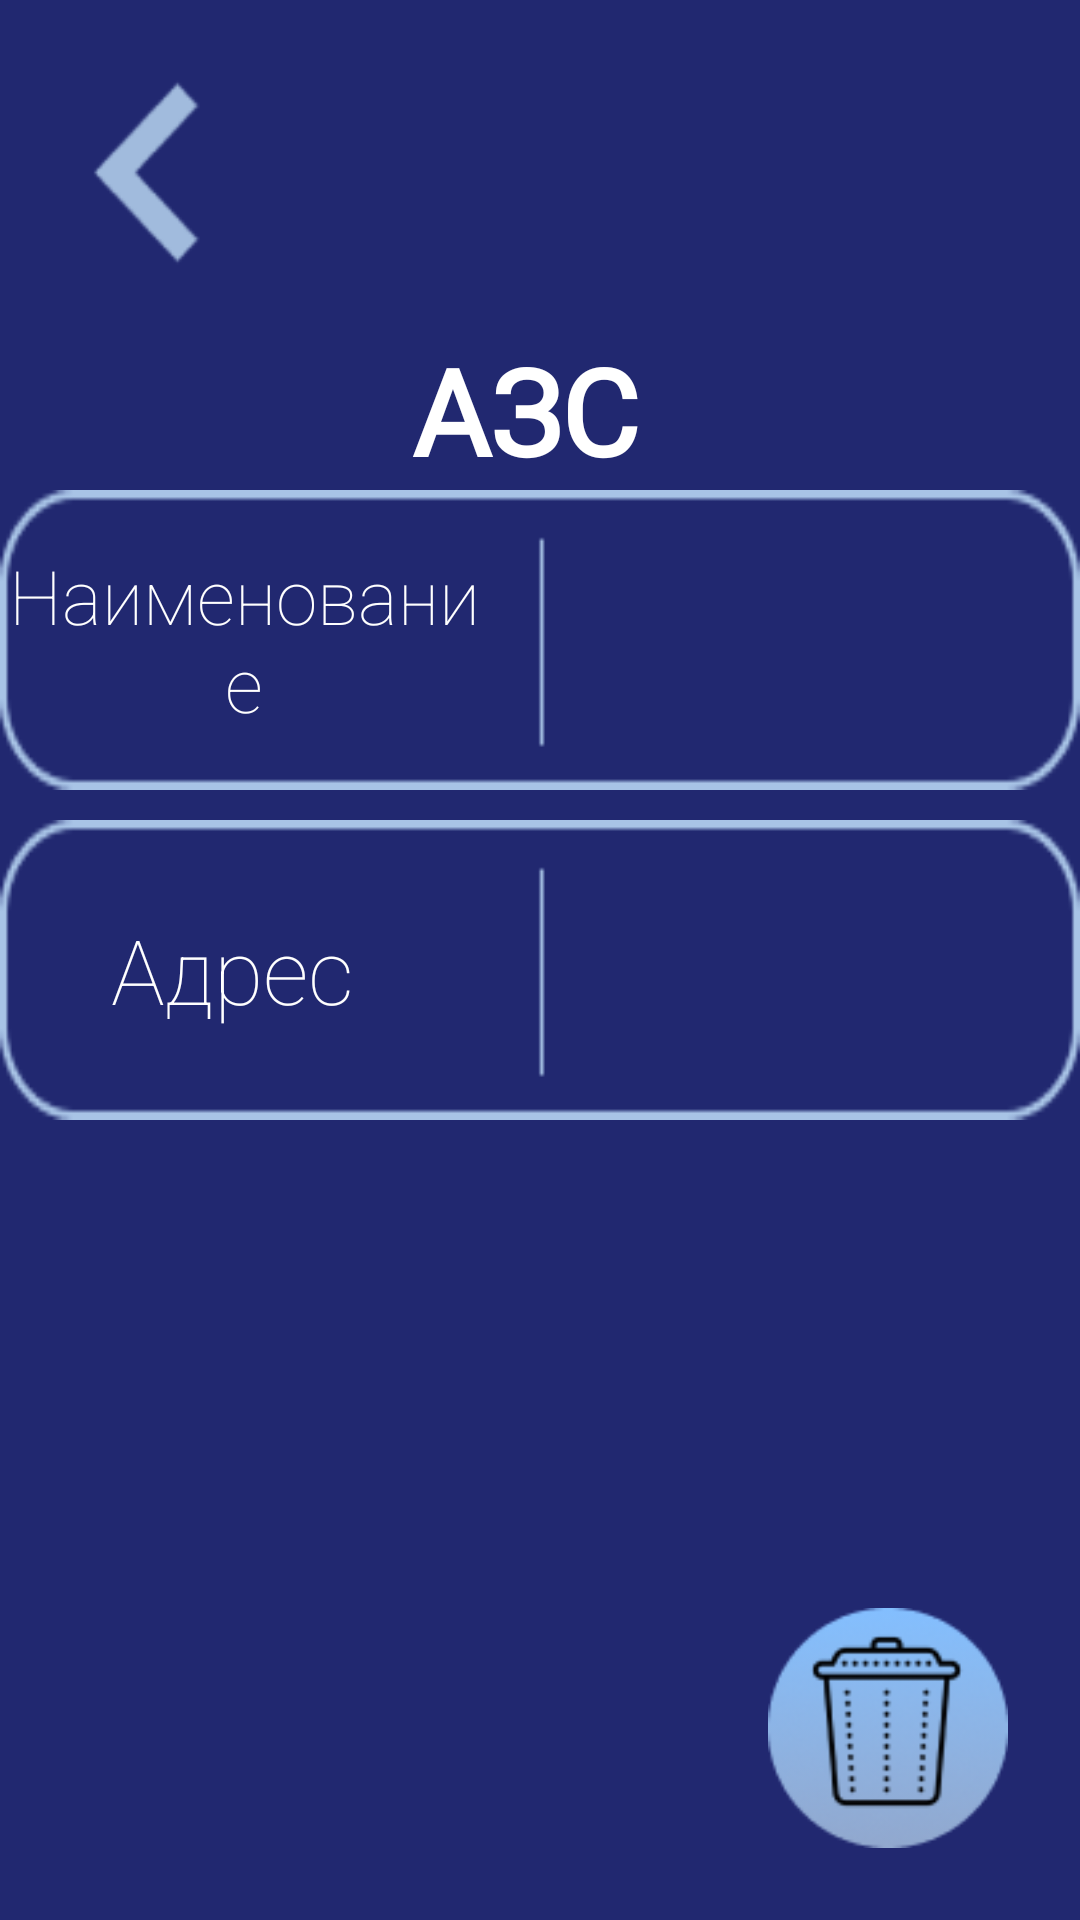

Point at icon controls on the screen. Image size 1080 x 1920, points as (x=x, y=y).
back: (x=146, y=172)
delete: (x=888, y=1728)
